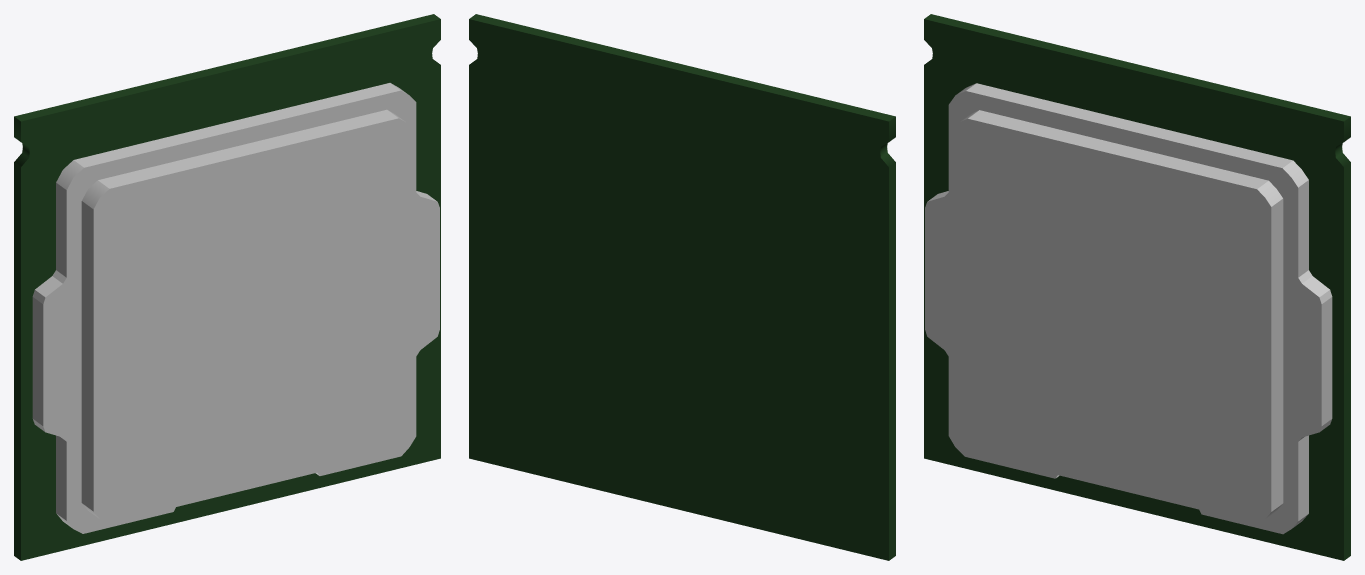
The model's file is cpu-5585aa97fea2.glb.
3 renders of one model, left to right at view 1: azimuth 30°, elevation 25°; view 2: azimuth 150°, elevation 25°; view 3: azimuth 330°, elevation 25°, orthographic.
Visible parts, largest first — view 1: pCube841_CPULidM_0, pCube840_CPU_BaseM_0; view 2: pCube840_CPU_BaseM_0; view 3: pCube841_CPULidM_0, pCube840_CPU_BaseM_0.
Part boxes in pixels (x1,y1,x2,y2): pCube841_CPULidM_0: (32,83,439,533); pCube840_CPU_BaseM_0: (14,14,440,560); pCube840_CPU_BaseM_0: (469,14,895,560); pCube841_CPULidM_0: (925,83,1332,534); pCube840_CPU_BaseM_0: (924,14,1350,560).
Bounding box in the file's own units: 1.12 × 1.12 × 0.1363.
